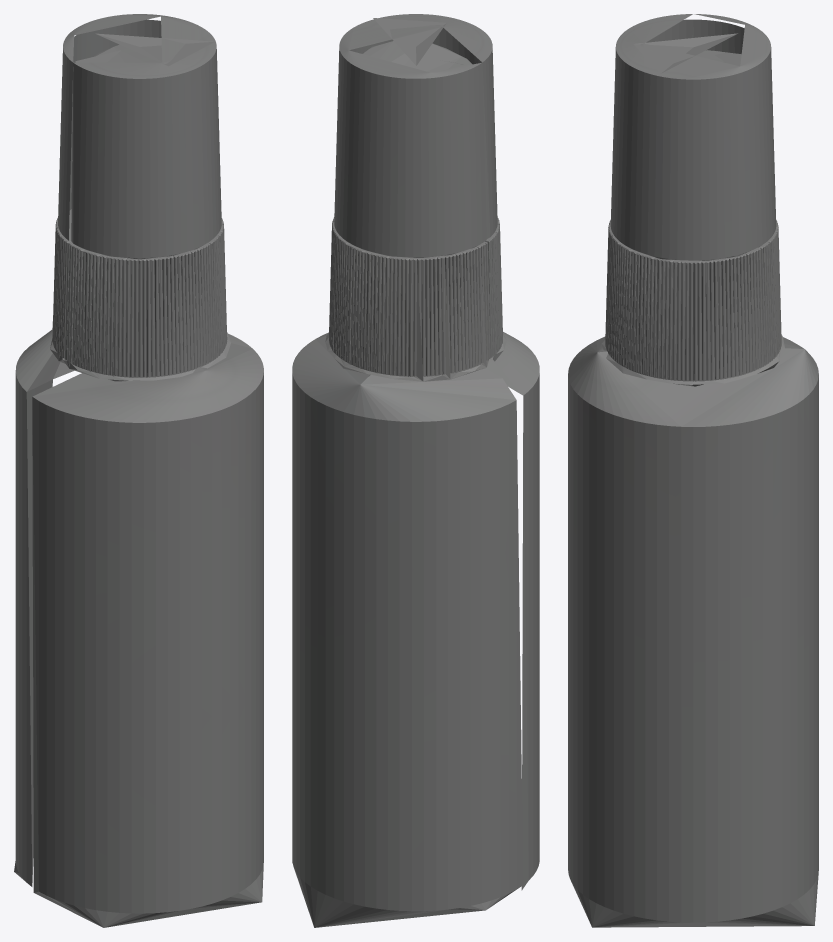
File: disinfectant_b01.glb
The picture shows the model from 3 angles, left to right: view 1: azimuth 30°, elevation 25°; view 2: azimuth 150°, elevation 25°; view 3: azimuth 270°, elevation 25°; orthographic projection.
Visible parts, largest first — view 1: geometry_0; view 2: geometry_0; view 3: geometry_0.
Boxes of the visible parts, bbox=[...] form: geometry_0: bbox=[14, 14, 263, 927]; geometry_0: bbox=[292, 14, 539, 927]; geometry_0: bbox=[568, 14, 818, 927].
Size of the model in its own units: 0.1109 by 0.42 by 0.1109.
Materials: 1 (1 with a texture image).
